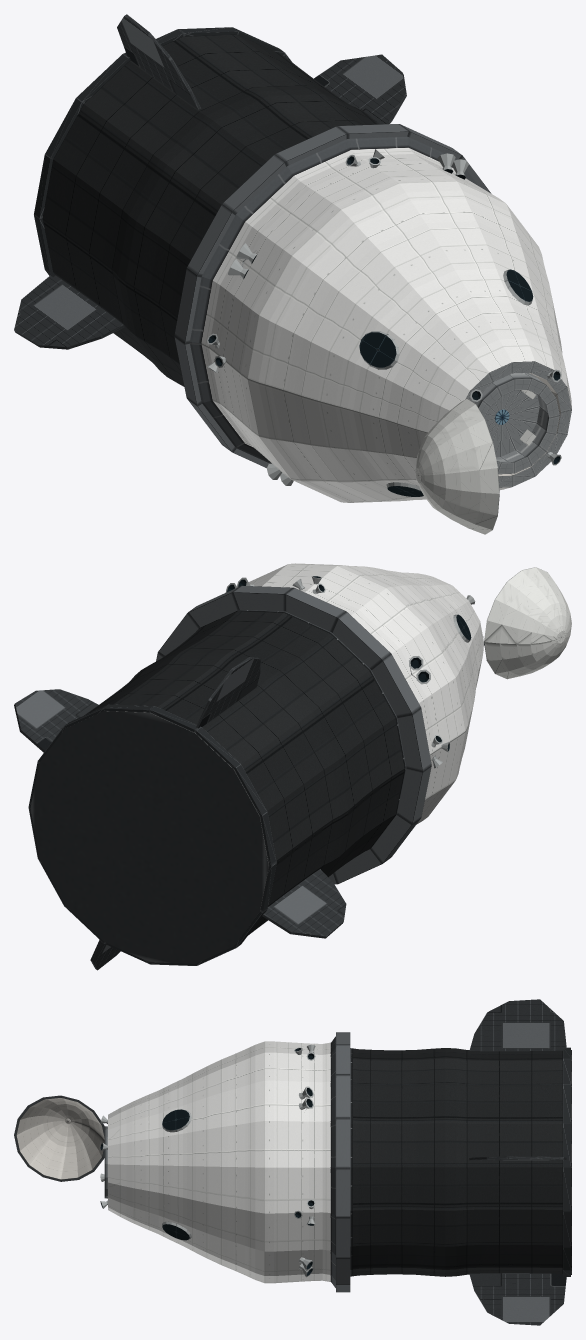
The model's file is PFL_CrewDragon_Native.obj.
The picture shows the model from 3 angles, top to bottom: view 1: azimuth 30°, elevation 25°; view 2: azimuth 150°, elevation 25°; view 3: azimuth 270°, elevation 25°; orthographic projection. The views are drawn at different scales.
Visible parts, largest first — view 1: PFL_CrewDragon_LowPoly; view 2: PFL_CrewDragon_LowPoly; view 3: PFL_CrewDragon_LowPoly.
Boxes of the visible parts, x1=… form: PFL_CrewDragon_LowPoly: x1=14, y1=14, x2=571, y2=534; PFL_CrewDragon_LowPoly: x1=14, y1=563, x2=571, y2=970; PFL_CrewDragon_LowPoly: x1=14, y1=999, x2=571, y2=1325.
Bounding box in the file's own units: 4.08 × 4.17 × 7.72.
Materials: 1 (1 with a texture image).
